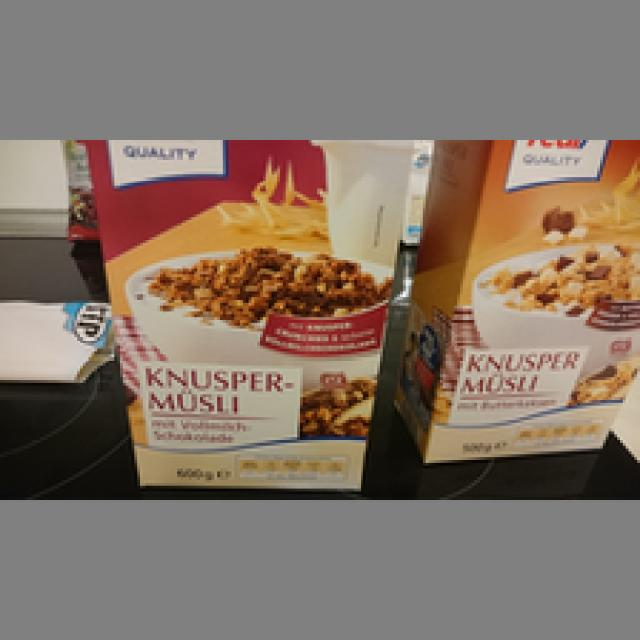groceries: (80, 134, 414, 486), (400, 143, 637, 463)
